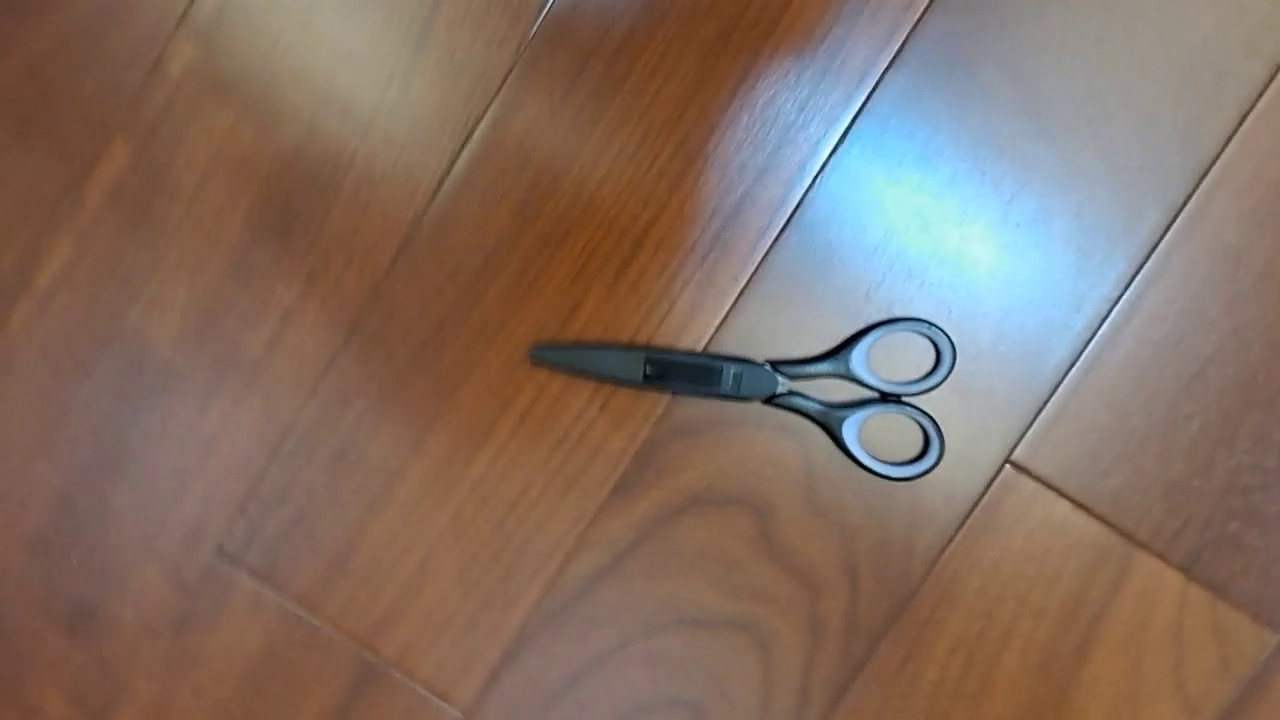scissors: (528, 317, 957, 482)
